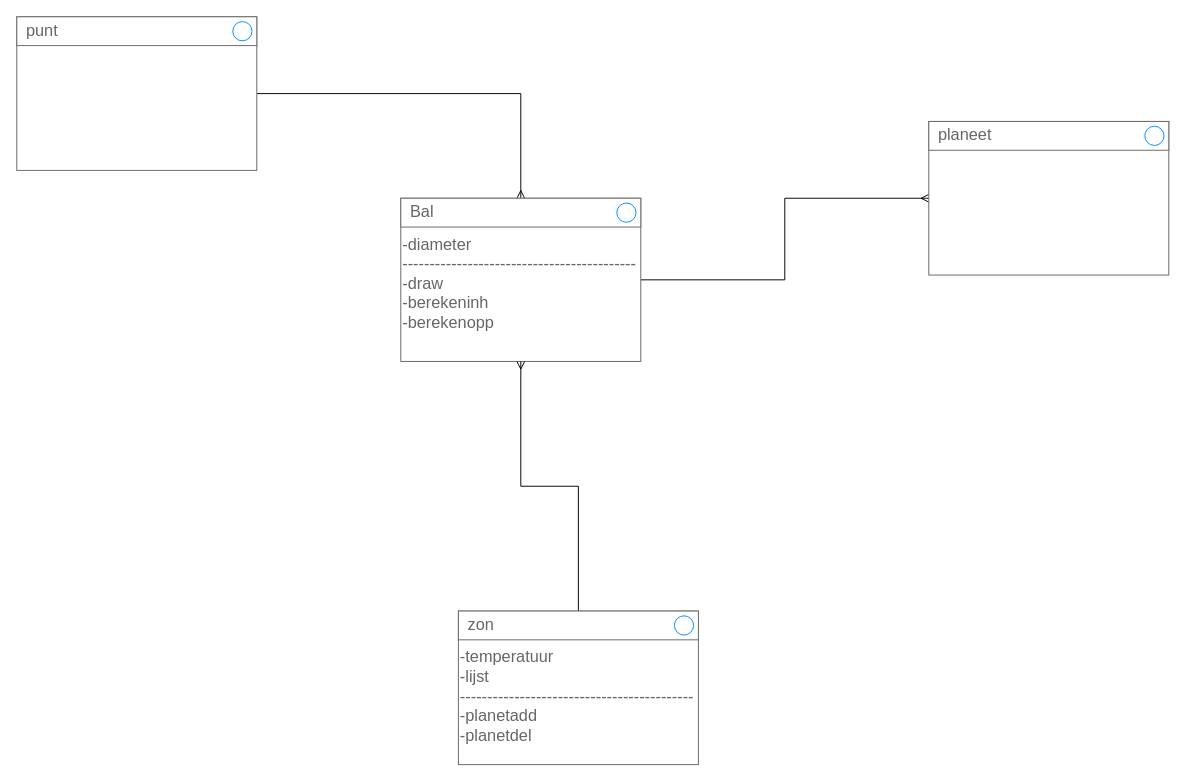
The diagram is 1186 pixels wide and 781 high, and some of its shapes have lost their labels. The centre of each missing label's shape, as x and y in pixels:
- Y - X - Z: the point at 136,93
-texture -bewoond --------------------------------------------draaien: the point at 1048,197
